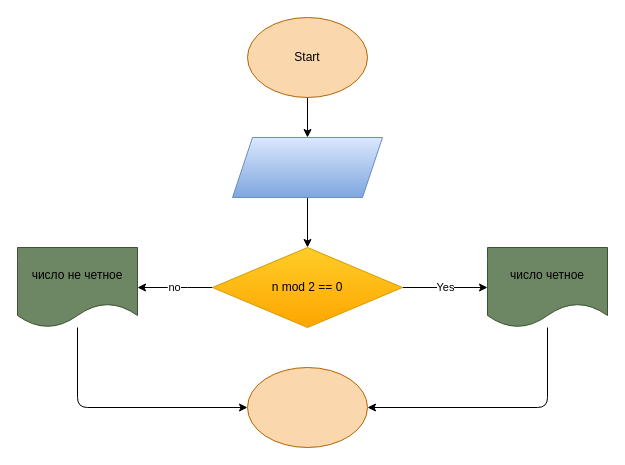
Image size: 625x465. Some labels were removed from this diagram. The shapes that lost their labels are listed below. From the top down, each one's box as (x1, y1, x2, y2) in pixels, then its label:
(232, 136, 382, 198): Получение числа n
(246, 366, 368, 448): End
